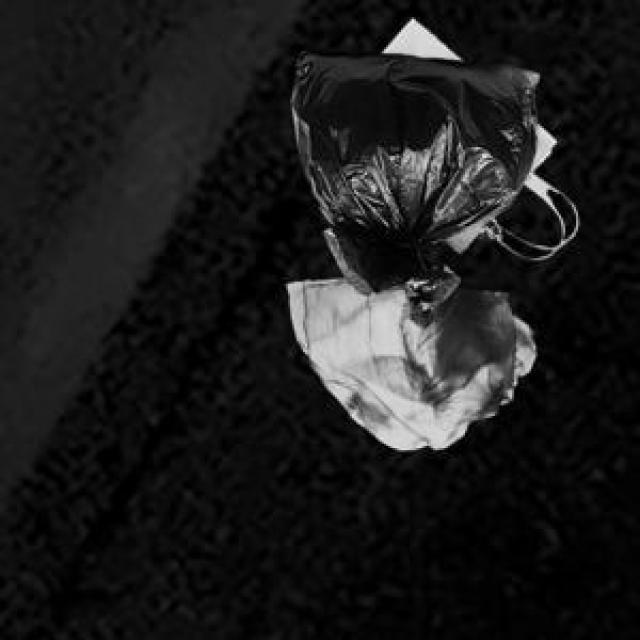miscellaneous trash: (288, 47, 536, 326)
paper: (378, 15, 553, 250)
